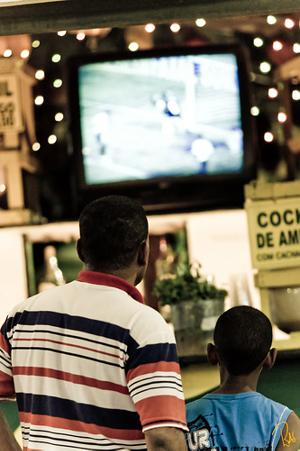person: (2, 196, 189, 449)
